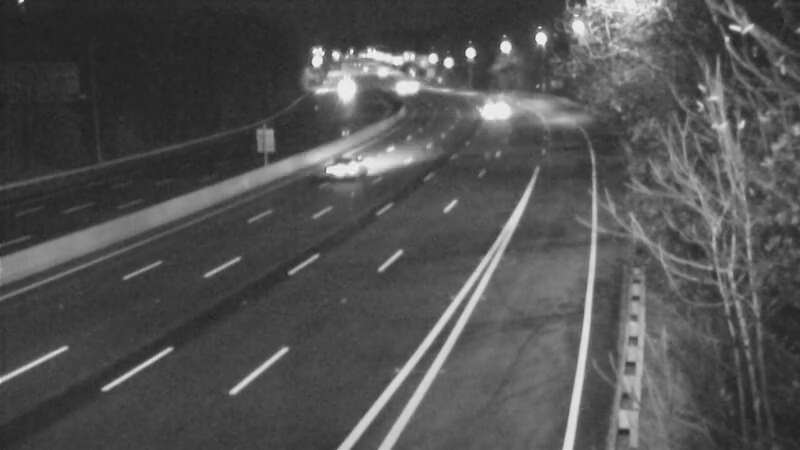vehicle: (307, 128, 387, 208), (387, 60, 437, 110), (374, 63, 424, 113), (466, 85, 516, 135), (322, 60, 372, 110)
